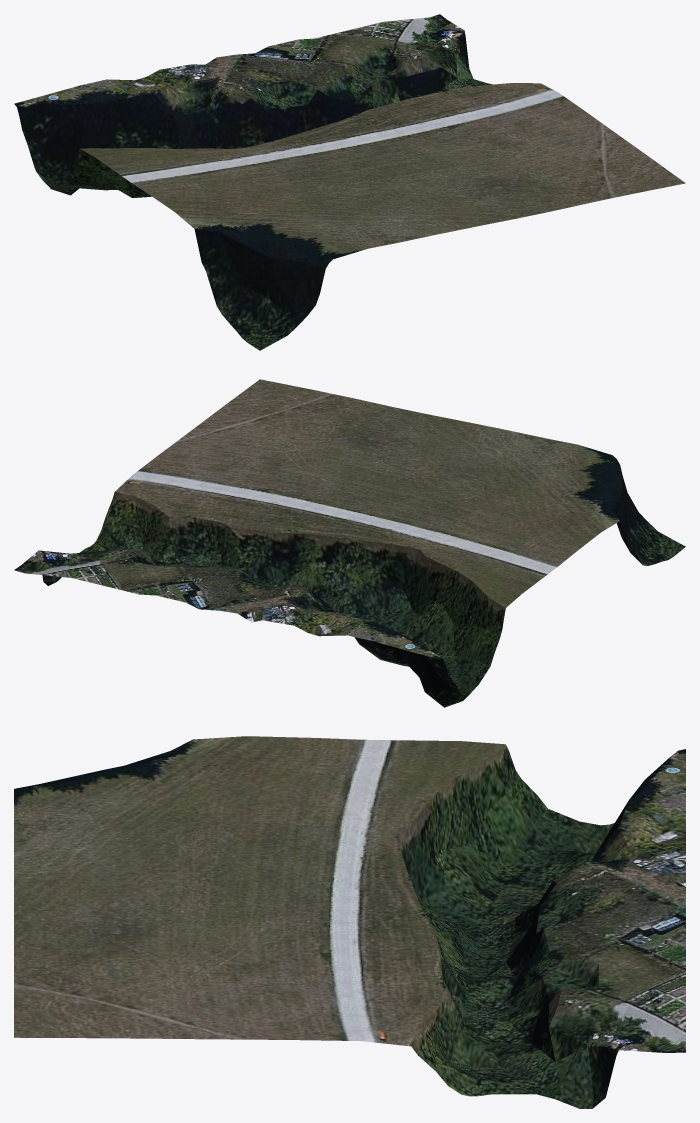
The model's file is map_15_8176_13783.dae.
The picture shows the model from 3 angles, top to bottom: view 1: azimuth 30°, elevation 25°; view 2: azimuth 150°, elevation 25°; view 3: azimuth 270°, elevation 25°; orthographic projection. The views are drawn at different scales.
Parts seen in each view (by area): view 1: Ter0; view 2: Ter0; view 3: Ter0.
Boxes of the visible parts, x1,y1,x2,y2 form: Ter0: [14, 14, 685, 350]; Ter0: [14, 379, 685, 707]; Ter0: [14, 736, 685, 1108].
Size of the model in its own units: 63.88 by 63.88 by 11.7.
Materials: 3 (3 with a texture image).
